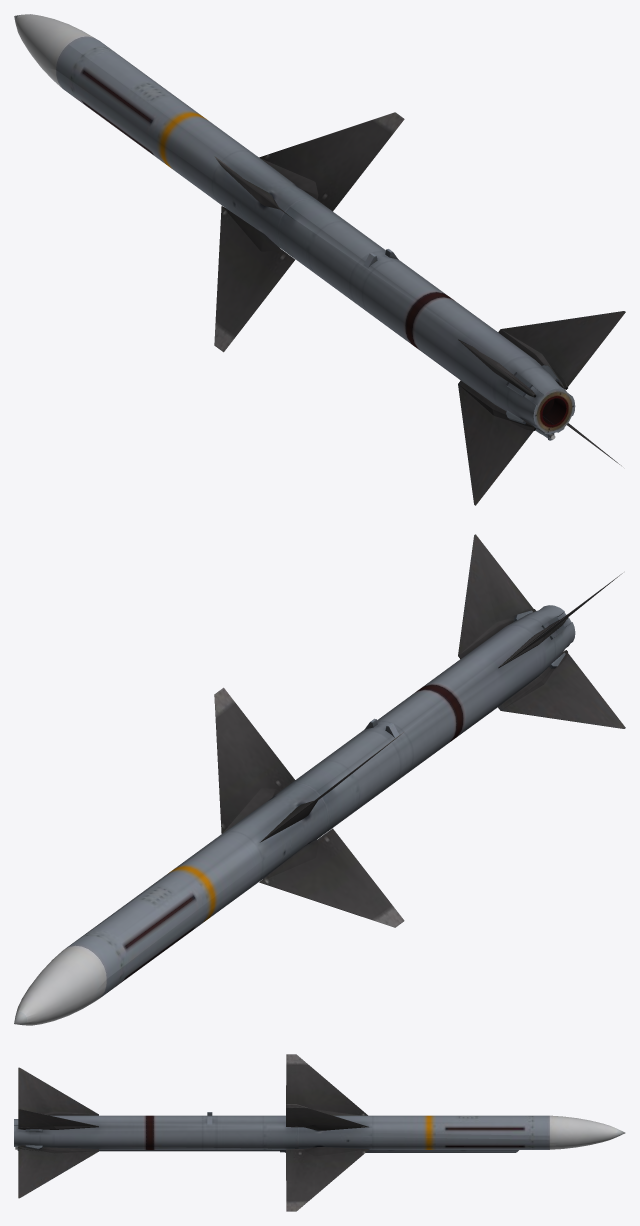
The model's file is aam_aim7.glb.
3 renders of one model, top to bottom at view 1: azimuth 30°, elevation 25°; view 2: azimuth 150°, elevation 25°; view 3: azimuth 270°, elevation 25°, orthographic. The views are drawn at different scales.
Parts seen in each view (by area): view 1: body|w_saam_a0-Mat; view 2: body|w_saam_a0-Mat; view 3: body|w_saam_a0-Mat.
Part boxes in pixels (x1=…): body|w_saam_a0-Mat: x1=14, y1=14, x2=625, y2=505; body|w_saam_a0-Mat: x1=14, y1=534, x2=625, y2=1025; body|w_saam_a0-Mat: x1=14, y1=1054, x2=625, y2=1211.
Bounding box in the file's own units: 0.7075 × 0.7075 × 3.65.
1 material, 1 textured.
